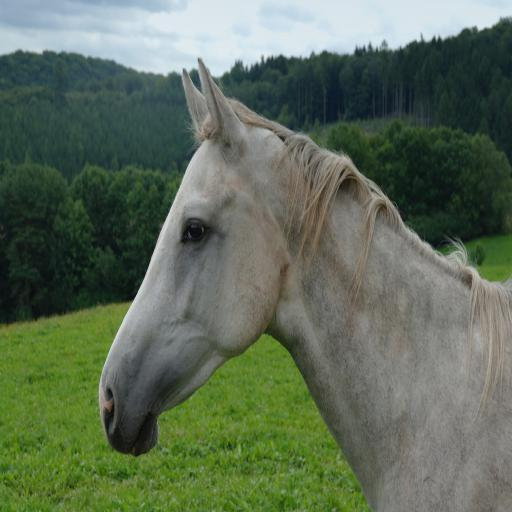horse: (99, 59, 511, 511)
